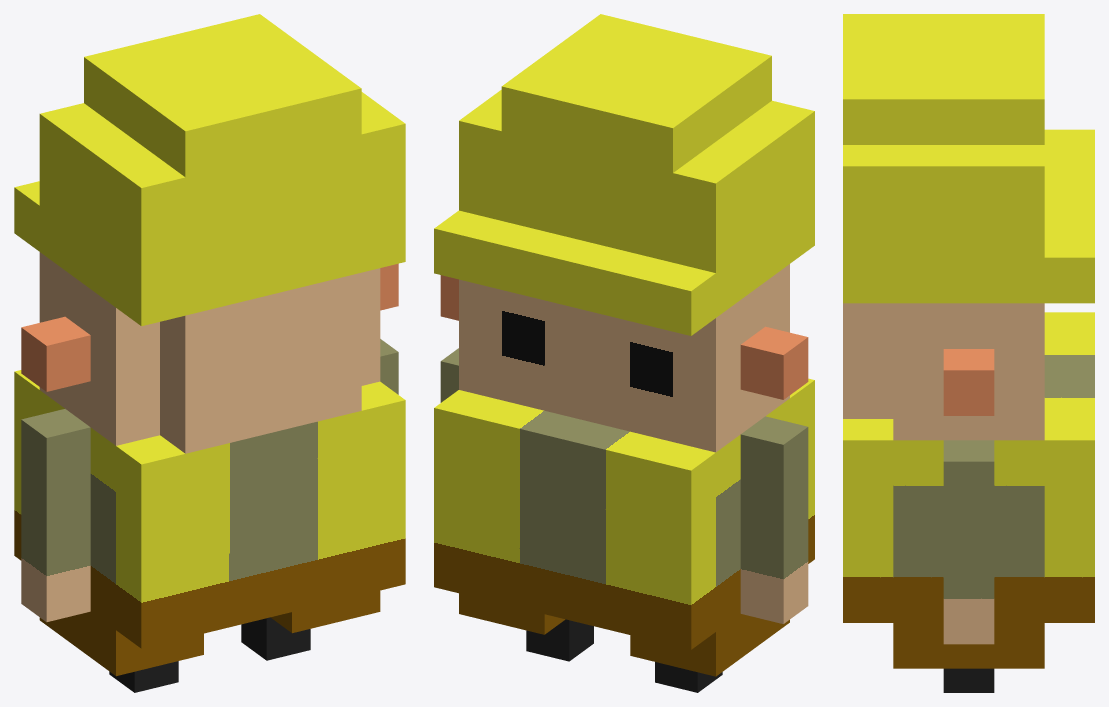
The model's file is chr_worker1.dae.
3 views of the same model, side by side, from view 1: azimuth 30°, elevation 25°; view 2: azimuth 150°, elevation 25°; view 3: azimuth 270°, elevation 25° (orthographic). The views are drawn at different scales.
Parts seen in each view (by area): view 1: chr_worker1; view 2: chr_worker1; view 3: chr_worker1.
Boxes of the visible parts, bbox=[...] form: chr_worker1: bbox=[14, 14, 405, 692]; chr_worker1: bbox=[434, 14, 814, 692]; chr_worker1: bbox=[843, 14, 1094, 692].
Size of the model in its own units: 0.8 by 0.5 by 1.3.
